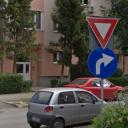preferencia: (84, 13, 120, 49)
